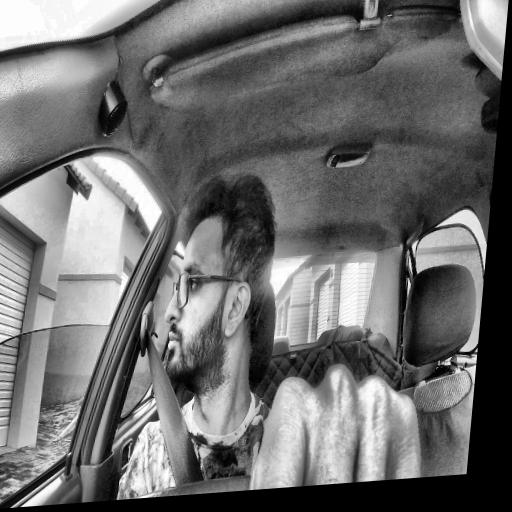awake: (158, 170, 281, 389)
